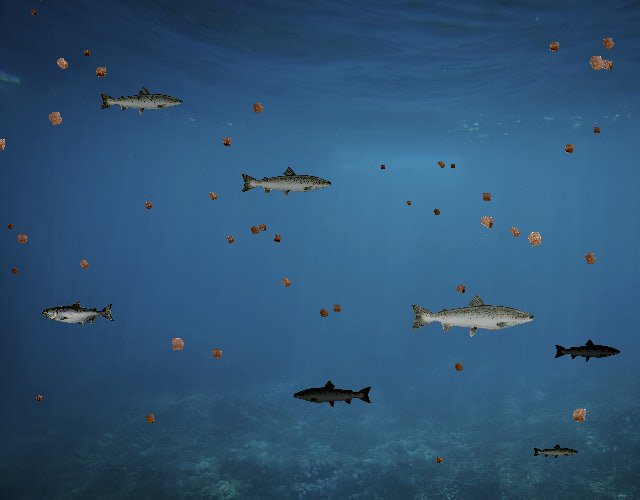Fish: (408, 292, 537, 338), (240, 165, 334, 199), (98, 85, 184, 116), (293, 379, 374, 408), (43, 300, 116, 326), (554, 338, 622, 362), (532, 444, 579, 461)
Pellet: (565, 402, 593, 430), (473, 209, 500, 236), (50, 51, 75, 76), (578, 246, 602, 270), (432, 453, 446, 467), (32, 391, 46, 405), (27, 7, 39, 19)
